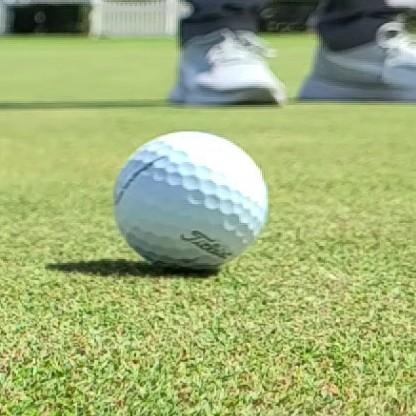golfball: (113, 131, 267, 269)
